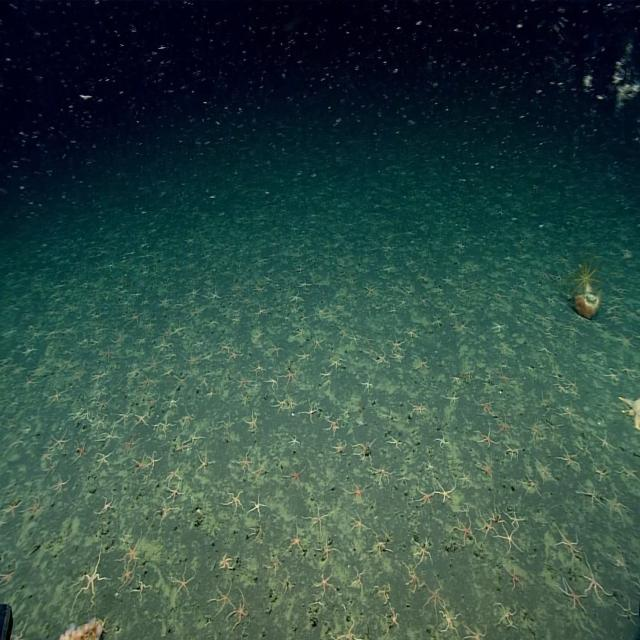brittle-stars: (71, 546, 106, 610), (580, 562, 607, 600), (305, 502, 332, 536), (555, 526, 579, 563), (561, 578, 585, 612), (451, 514, 474, 549), (425, 584, 447, 620), (497, 522, 521, 554), (493, 599, 519, 628), (170, 565, 195, 595), (209, 582, 234, 612), (578, 482, 604, 510), (403, 560, 423, 595), (372, 526, 393, 559), (286, 523, 305, 559), (438, 606, 460, 637), (412, 536, 434, 566), (344, 480, 369, 506), (312, 570, 338, 594), (122, 537, 142, 566), (558, 447, 581, 472), (606, 492, 628, 518), (595, 428, 616, 455), (433, 479, 456, 503), (369, 464, 394, 486), (284, 462, 305, 488), (233, 591, 248, 626), (225, 488, 246, 513), (352, 440, 375, 462), (48, 471, 70, 494), (348, 511, 368, 536), (117, 561, 136, 587), (475, 426, 496, 449), (49, 428, 70, 451), (522, 474, 542, 498), (560, 400, 580, 424), (478, 511, 495, 538), (505, 505, 524, 529), (497, 411, 512, 440), (26, 494, 43, 519), (132, 577, 152, 598), (415, 486, 436, 506), (619, 462, 640, 482), (386, 601, 399, 633), (196, 452, 214, 475), (97, 494, 114, 518), (249, 494, 265, 519), (385, 433, 405, 453), (94, 450, 113, 471), (156, 412, 174, 434), (238, 448, 253, 474), (251, 460, 270, 480), (281, 366, 300, 386), (478, 456, 494, 479), (302, 401, 318, 424), (156, 501, 176, 519), (219, 551, 236, 572), (505, 567, 522, 588), (243, 410, 260, 431), (529, 421, 545, 443), (410, 400, 428, 419), (234, 370, 252, 389), (324, 415, 341, 435), (49, 386, 65, 407), (93, 410, 108, 432), (146, 451, 162, 471), (131, 456, 147, 476), (476, 398, 494, 415), (183, 350, 199, 369), (266, 339, 282, 358), (496, 366, 511, 386), (143, 354, 160, 371), (265, 373, 281, 391), (373, 348, 388, 367), (75, 442, 89, 462), (329, 355, 346, 371), (117, 407, 132, 425), (290, 326, 308, 341), (435, 431, 449, 450), (226, 346, 240, 364), (422, 456, 435, 475), (445, 390, 460, 406), (537, 343, 552, 359), (254, 303, 270, 318), (133, 413, 150, 427), (166, 392, 180, 409), (190, 430, 203, 448), (497, 340, 512, 355), (288, 432, 302, 448), (390, 336, 404, 352), (157, 293, 171, 309), (175, 438, 188, 455), (252, 358, 264, 376), (208, 286, 220, 304), (491, 319, 506, 333), (122, 437, 136, 451), (296, 348, 310, 362), (360, 333, 375, 346), (273, 397, 286, 412), (312, 334, 324, 350), (297, 278, 311, 291), (187, 286, 201, 299), (333, 300, 346, 314), (290, 290, 302, 305), (457, 318, 469, 332), (287, 396, 297, 412)
